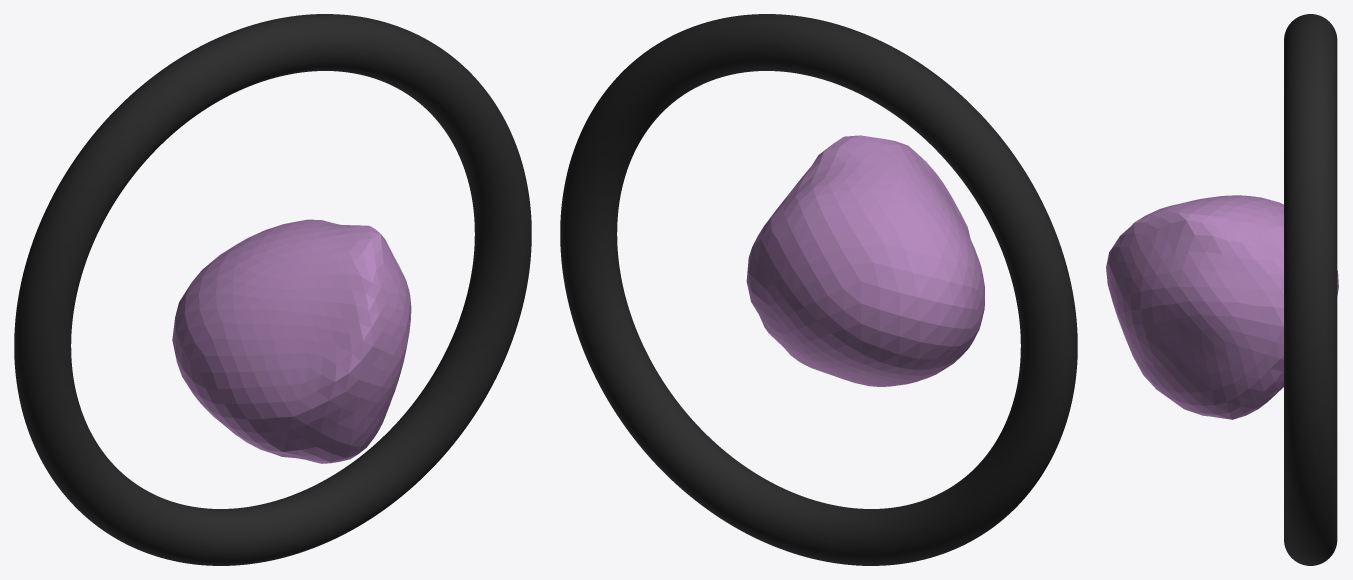
3 views of the same model, side by side, from view 1: azimuth 30°, elevation 25°; view 2: azimuth 150°, elevation 25°; view 3: azimuth 270°, elevation 25° (orthographic). The views are drawn at different scales.
Visible parts, largest first — view 1: fixed_CAD_Ring, polyp_body_inferred_base_gray; view 2: fixed_CAD_Ring, polyp_body_inferred_base_gray; view 3: polyp_body_inferred_base_gray, fixed_CAD_Ring.
Boxes of the visible parts, x1,y1,x2,y2 form: fixed_CAD_Ring: [14, 14, 531, 565]; polyp_body_inferred_base_gray: [172, 219, 411, 463]; fixed_CAD_Ring: [560, 14, 1077, 565]; polyp_body_inferred_base_gray: [746, 135, 984, 386]; polyp_body_inferred_base_gray: [1106, 195, 1338, 419]; fixed_CAD_Ring: [1284, 14, 1337, 565].
Size of the model in its own units: 0.0124 by 0.0124 by 0.00523.
